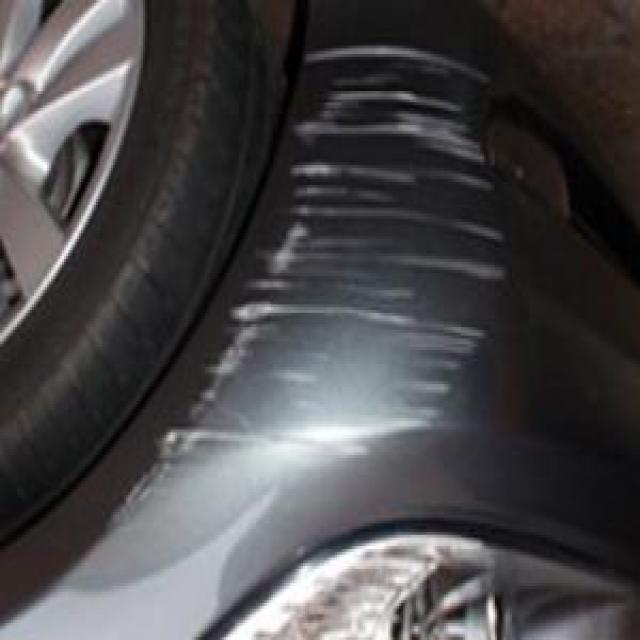scratch: (162, 57, 504, 535)
